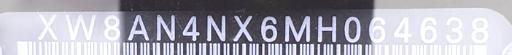letter: (63, 12, 97, 41), (280, 13, 314, 42), (464, 13, 494, 44), (390, 11, 416, 44), (202, 12, 230, 41), (152, 11, 178, 42), (339, 12, 365, 43), (415, 12, 441, 43), (35, 11, 61, 40), (230, 13, 256, 42), (126, 11, 150, 42), (315, 12, 339, 43), (366, 12, 390, 43), (98, 11, 122, 40), (256, 12, 280, 41), (180, 11, 202, 40), (442, 14, 464, 43)
